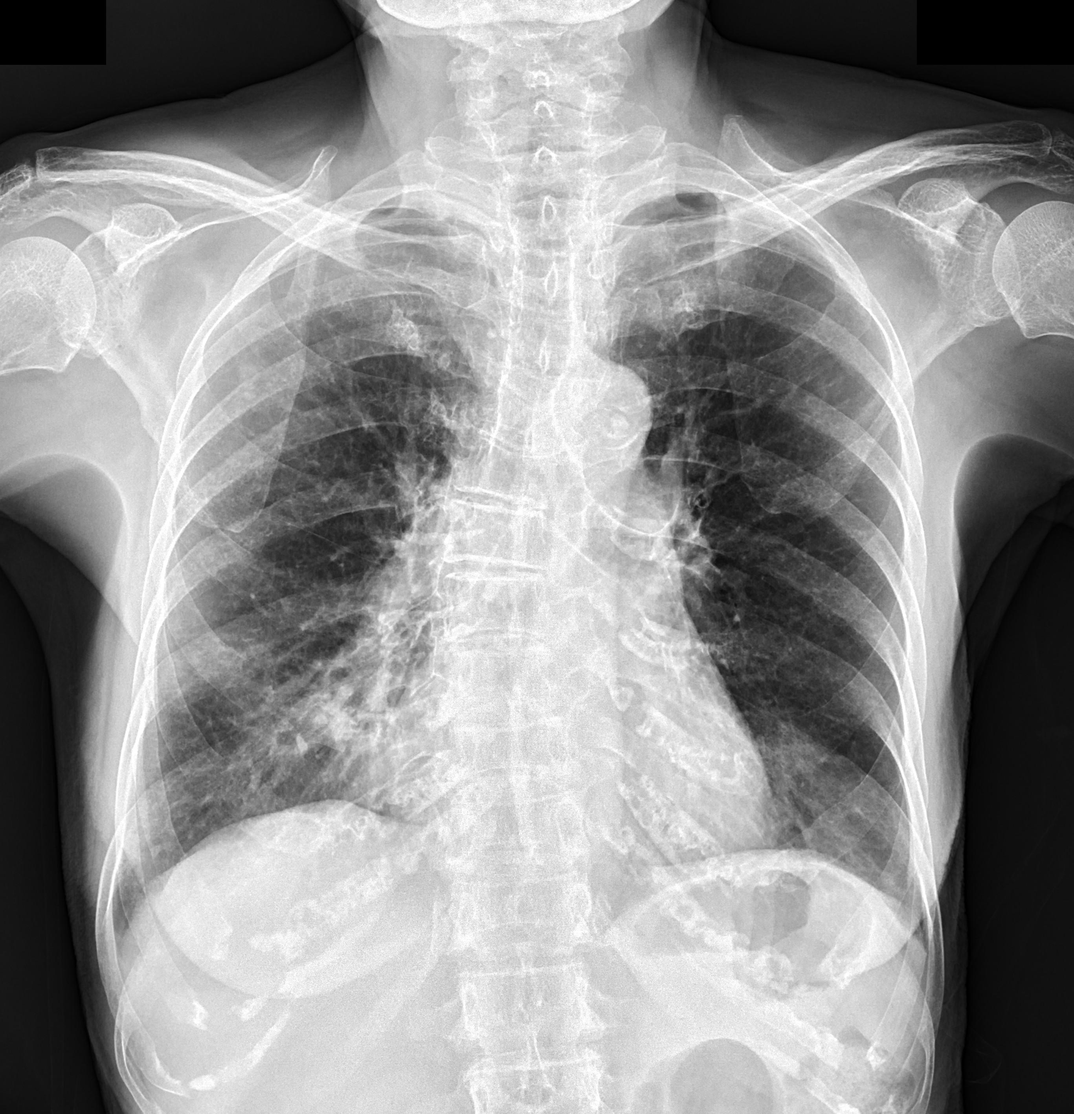Aortic enlargement: (543, 358, 655, 457)
